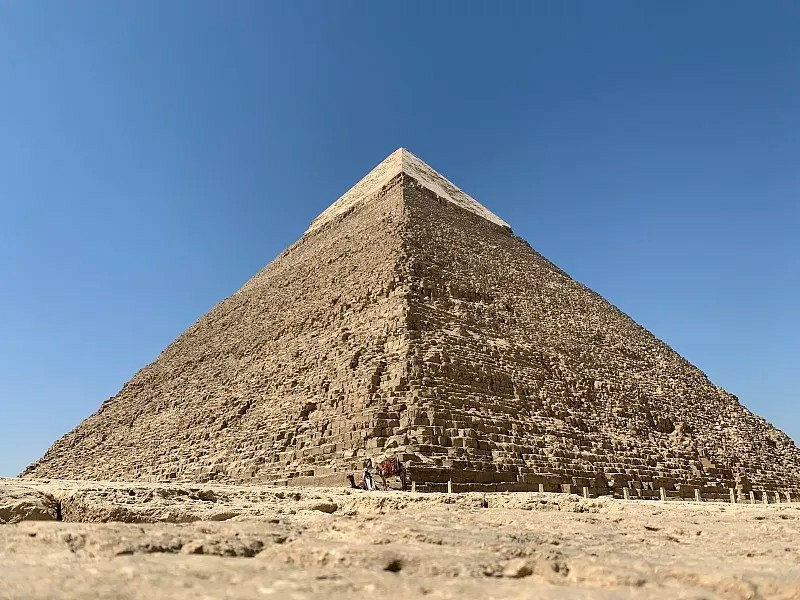Pyramid: (21, 147, 800, 494)
